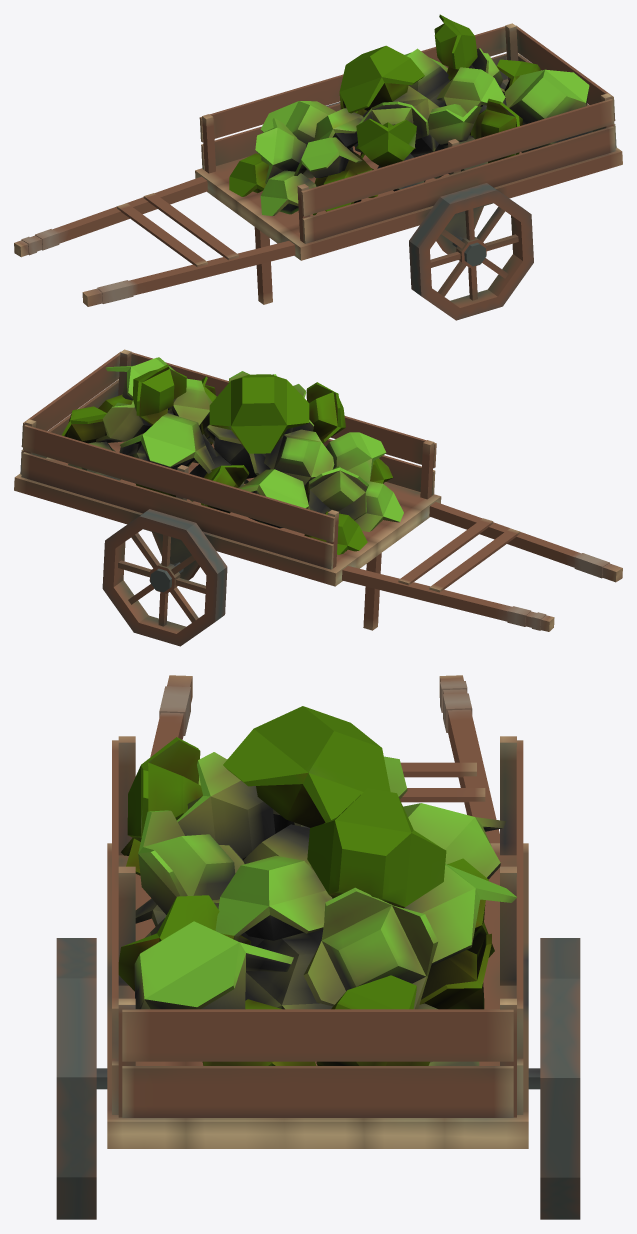
The model's file is IronMine.glb.
3 renders of one model, top to bottom at view 1: azimuth 30°, elevation 25°; view 2: azimuth 150°, elevation 25°; view 3: azimuth 270°, elevation 25°, orthographic. The views are drawn at different scales.
Visible parts, largest first — view 1: Cube.033; view 2: Cube.033; view 3: Cube.033.
Boxes of the visible parts, <box> form: Cube.033: <box>14,14,622,320</box>; Cube.033: <box>14,349,622,646</box>; Cube.033: <box>56,675,580,1219</box>.
Bounding box in the file's own units: 3.22 × 1.35 × 1.41.
1 material, 1 textured.
